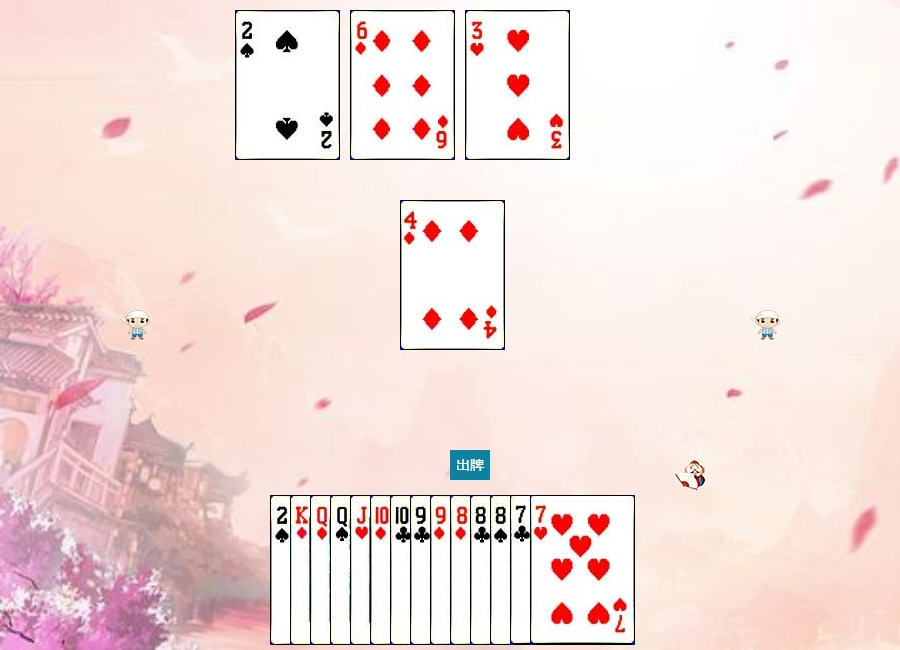10~1: (370, 495, 475, 645)
10~2: (390, 495, 495, 645)
11~3: (350, 495, 455, 645)
12~1: (310, 495, 415, 645)
12~4: (330, 495, 435, 645)
13~1: (290, 495, 395, 645)
15~4: (235, 10, 340, 160), (270, 495, 375, 645)
3~3: (465, 10, 570, 160)
4~1: (400, 200, 505, 350)
6~1: (350, 10, 455, 160)
7~2: (510, 495, 615, 645)
7~3: (530, 495, 635, 645)
8~1: (450, 495, 555, 645)
8~2: (470, 495, 575, 645)
8~4: (490, 495, 595, 645)
9~1: (430, 495, 535, 645)
9~2: (410, 495, 515, 645)
